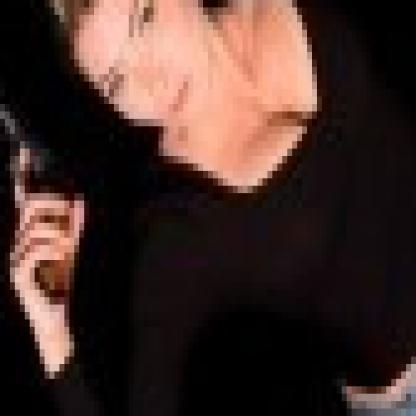gun: (0, 37, 94, 334)
